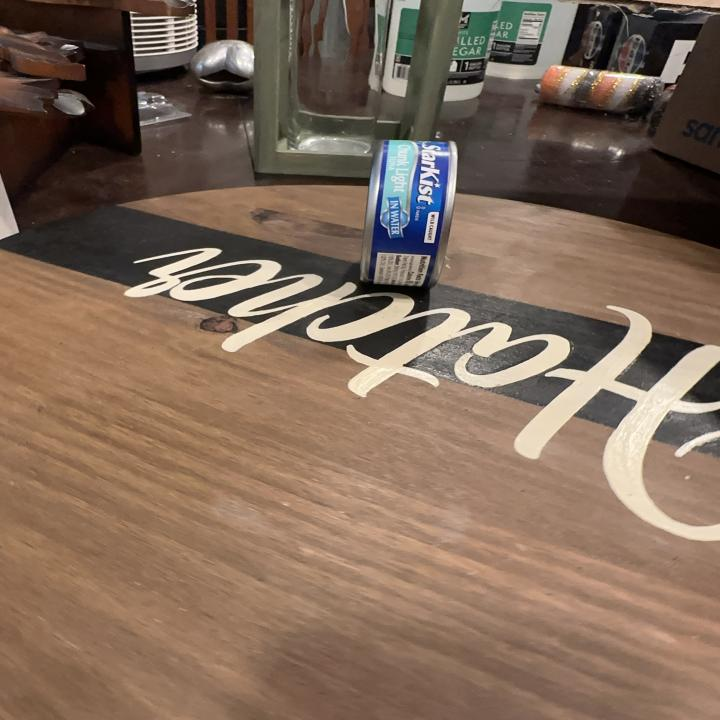Canned-Tuna: (360, 133, 459, 293)
